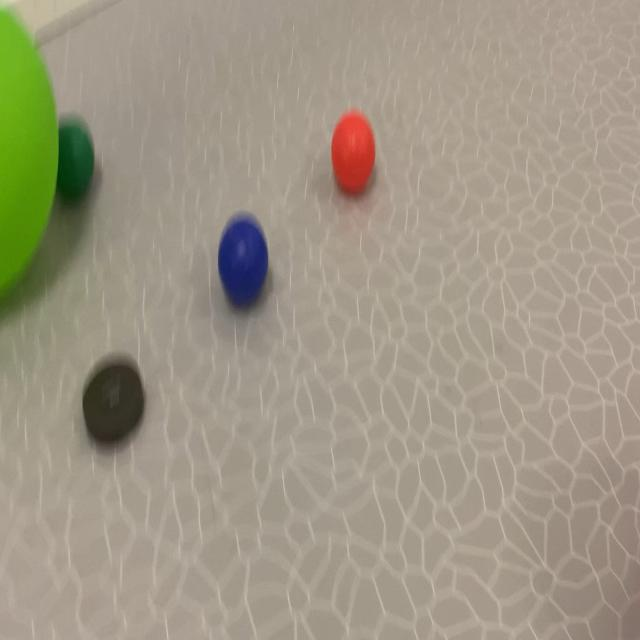7: (294, 49, 390, 264)
blue ball: (54, 62, 394, 333)
green ball: (180, 160, 278, 364)
red ball: (47, 68, 109, 264)
